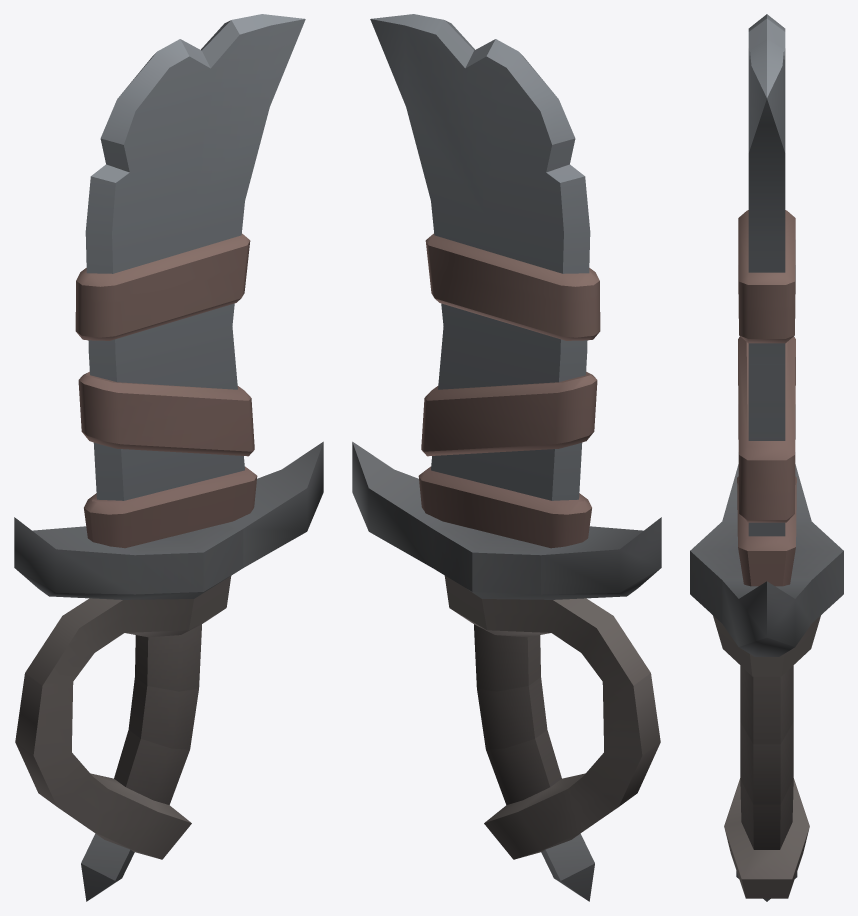
File: Skeleton_Blade.glb
3 views of the same model, side by side, from view 1: azimuth 30°, elevation 25°; view 2: azimuth 150°, elevation 25°; view 3: azimuth 270°, elevation 25° (orthographic). The views are drawn at different scales.
Visible parts, largest first — view 1: Skeleton_Blade; view 2: Skeleton_Blade; view 3: Skeleton_Blade.
Boxes of the visible parts, x1=… form: Skeleton_Blade: x1=14, y1=14, x2=323, y2=901; Skeleton_Blade: x1=352, y1=14, x2=661, y2=901; Skeleton_Blade: x1=690, y1=14, x2=843, y2=901.
Bounding box in the file's own units: 0.5727 × 1.5 × 0.2223.
Materials: 1 (1 with a texture image).
